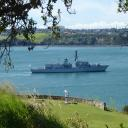Fragata: (30, 50, 112, 76)
